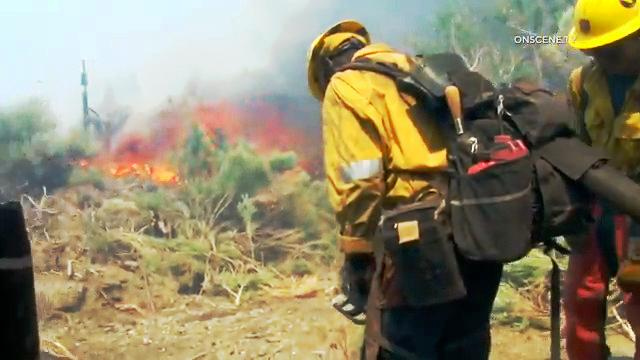fire: (94, 141, 189, 183)
